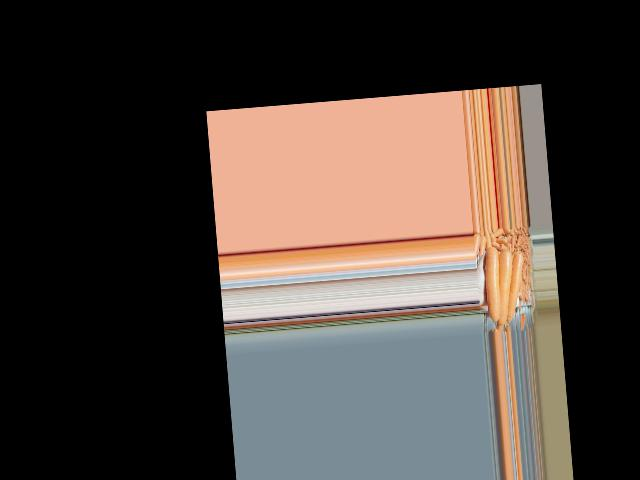carrot: (483, 245, 507, 324)
